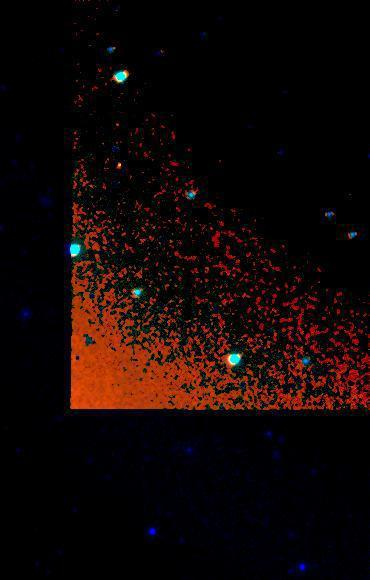star: (104, 153, 134, 183)
